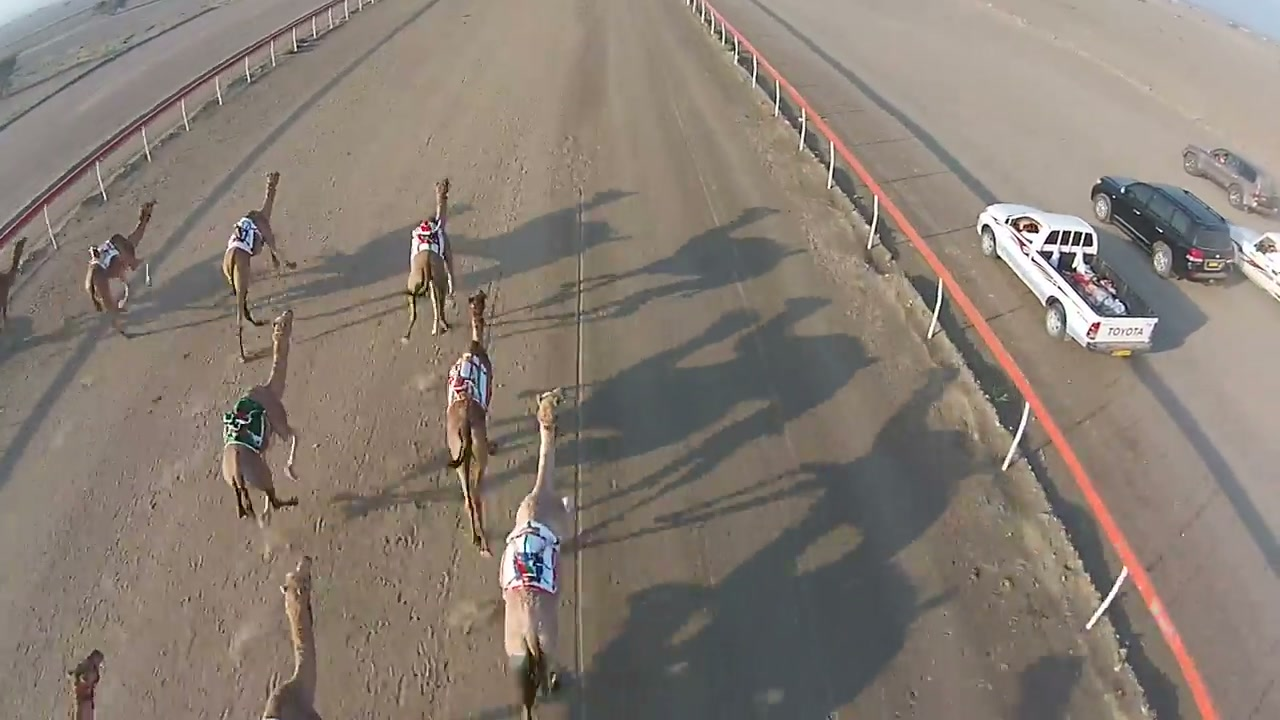animal_foot_print: (369, 315, 459, 713)
